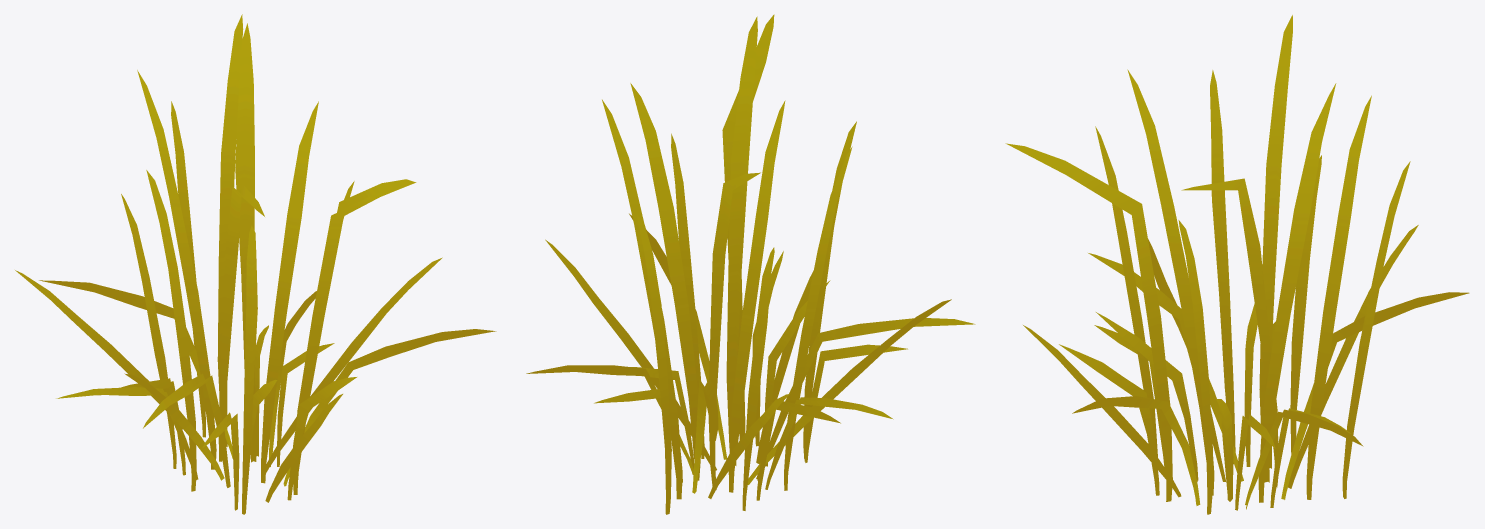
File: Grass_Wispy_Tall.gltf
The picture shows the model from 3 angles, left to right: view 1: azimuth 30°, elevation 25°; view 2: azimuth 150°, elevation 25°; view 3: azimuth 270°, elevation 25°; orthographic projection. The views are drawn at different scales.
Parts seen in each view (by area): view 1: Grass_Wispy_Tall; view 2: Grass_Wispy_Tall; view 3: Grass_Wispy_Tall.
Part boxes in pixels (left/top/right/bottom): Grass_Wispy_Tall: left=15, top=14, right=496, bottom=514; Grass_Wispy_Tall: left=526, top=14, right=975, bottom=514; Grass_Wispy_Tall: left=1005, top=15, right=1469, bottom=514.
Bounding box in the file's own units: 1.54 × 1.67 × 1.59.
Materials: 1 (1 with a texture image).
